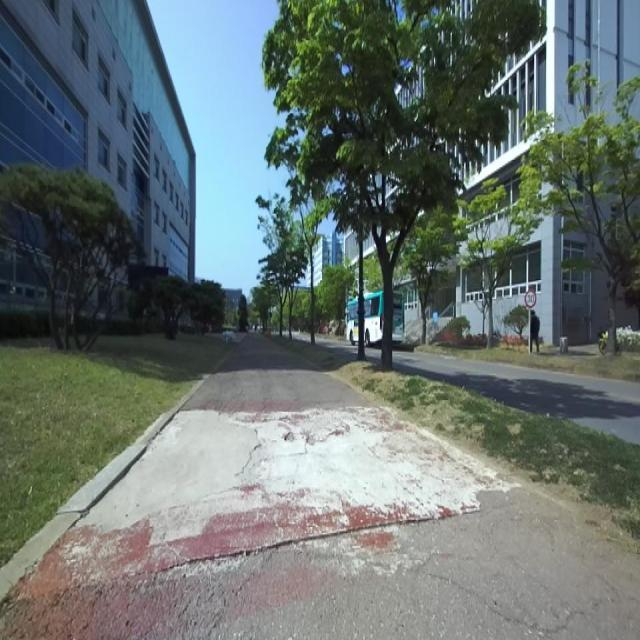sidewalk: (0, 488, 640, 639), (14, 406, 512, 600), (184, 332, 368, 412)
